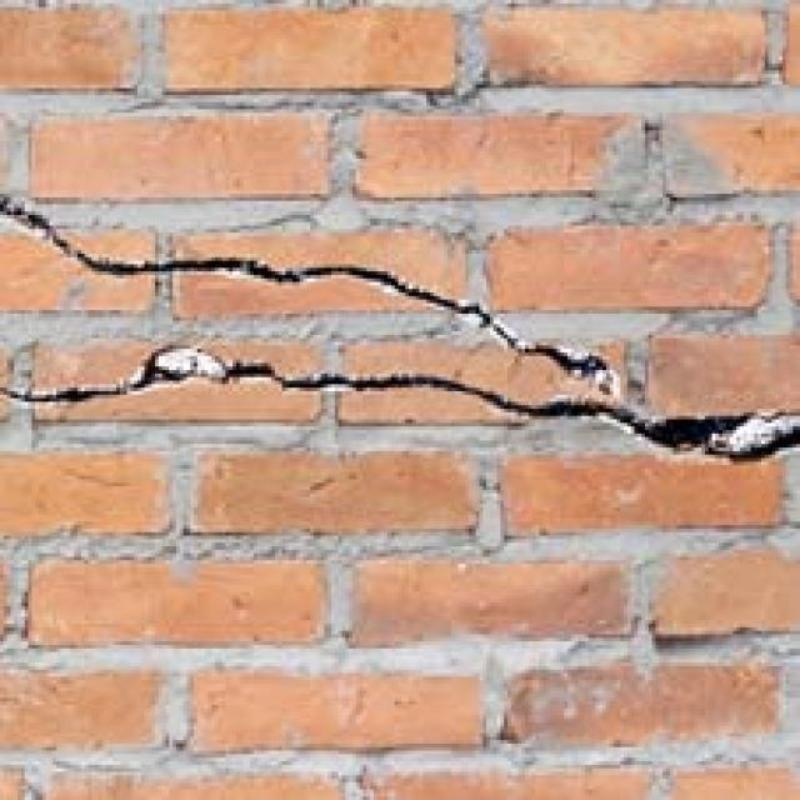crack: (0, 199, 614, 393), (0, 347, 800, 459)
